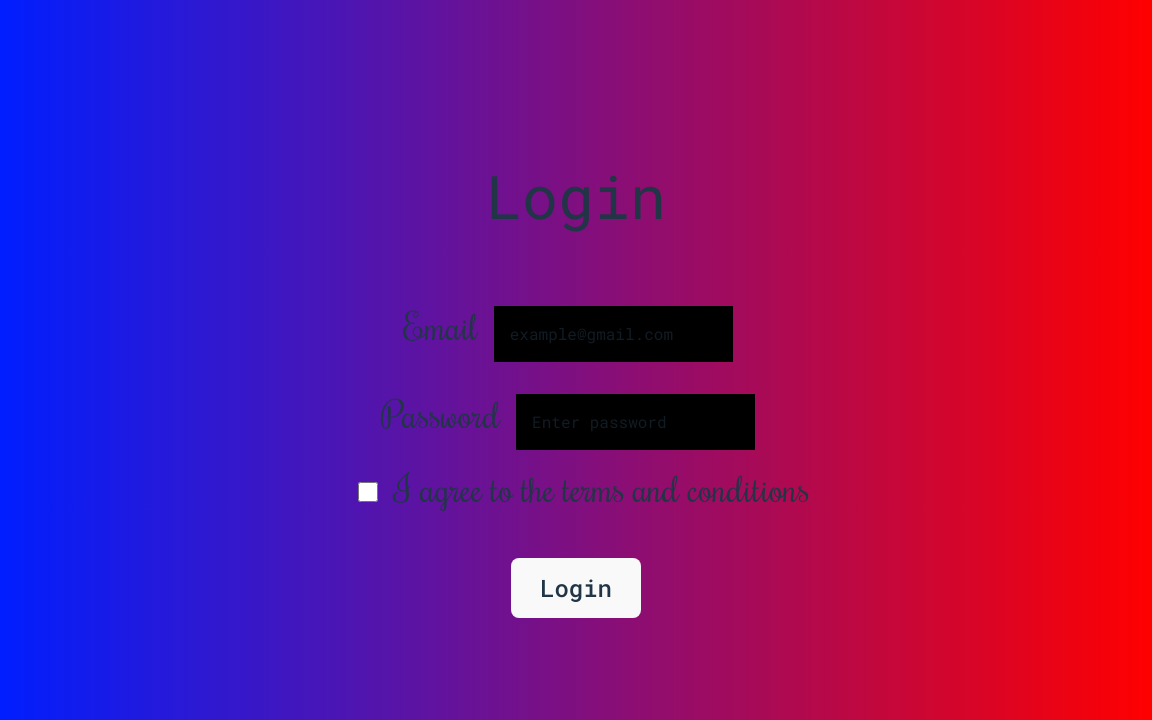
Test: Login Page › Submission › After submission go submit
The image size is (1152, 720).
Type "hello@hello.com" into the field with test id "email". click: (614, 334)
box: x1=494 y1=306 x2=733 y2=362
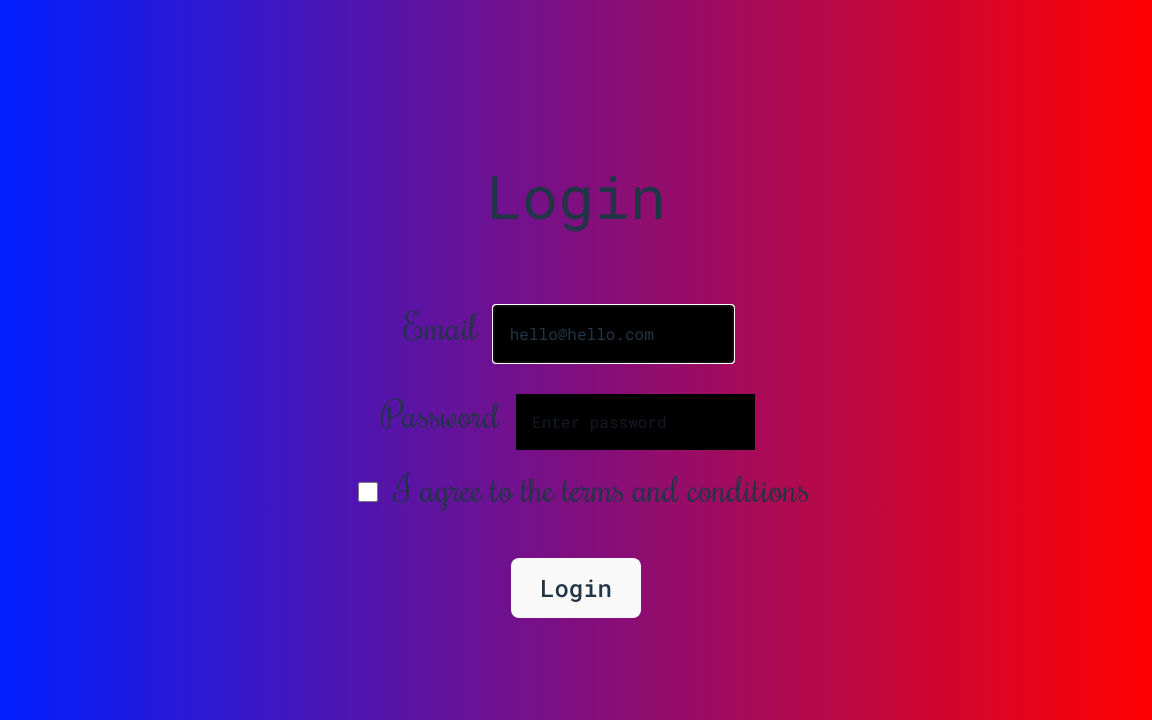
Type "pa$sW0rd" into the password field with test id "password". click: (636, 422)
box: x1=516 y1=394 x2=755 y2=450
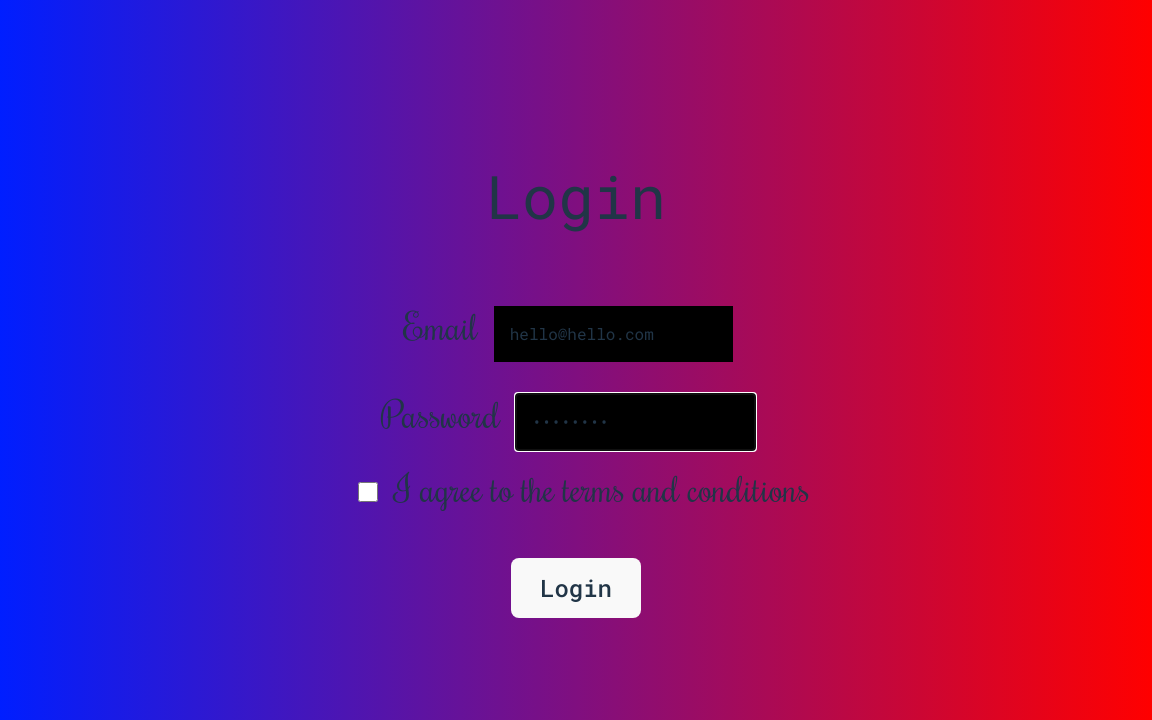
Click the checkbox with test id "terms". click: (368, 492)
box: x1=358 y1=482 x2=378 y2=502
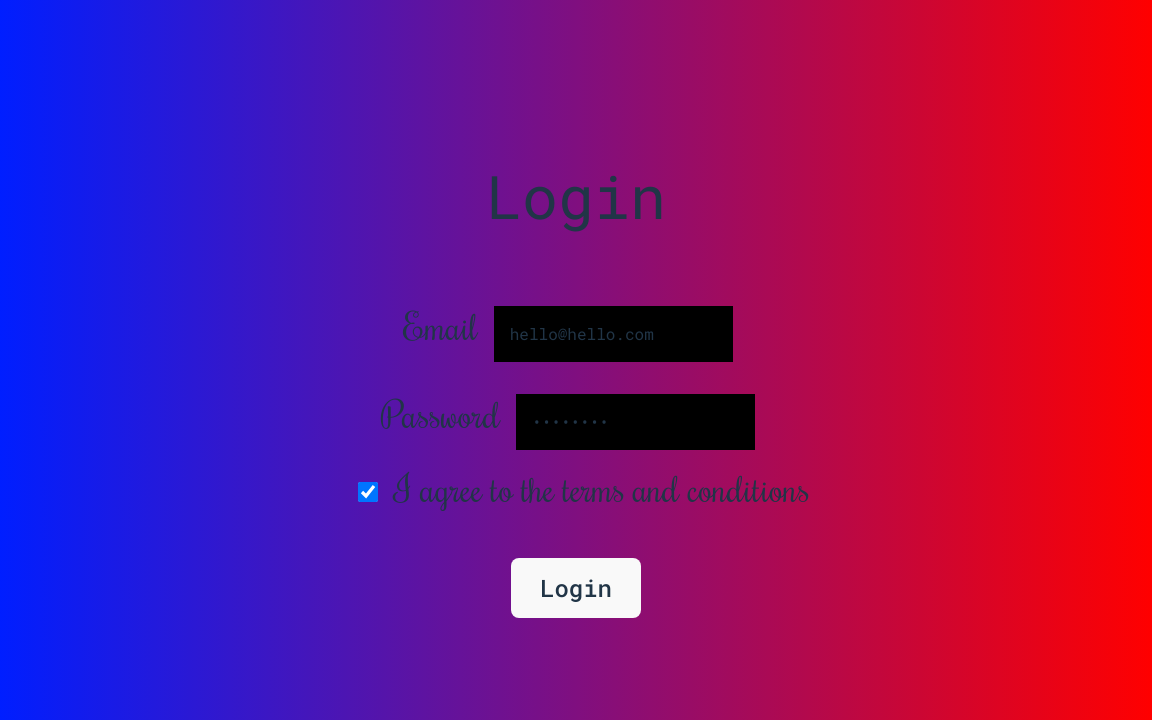
Click the button with test id "submit". click: (576, 589)
box: x1=511 y1=558 x2=641 y2=619
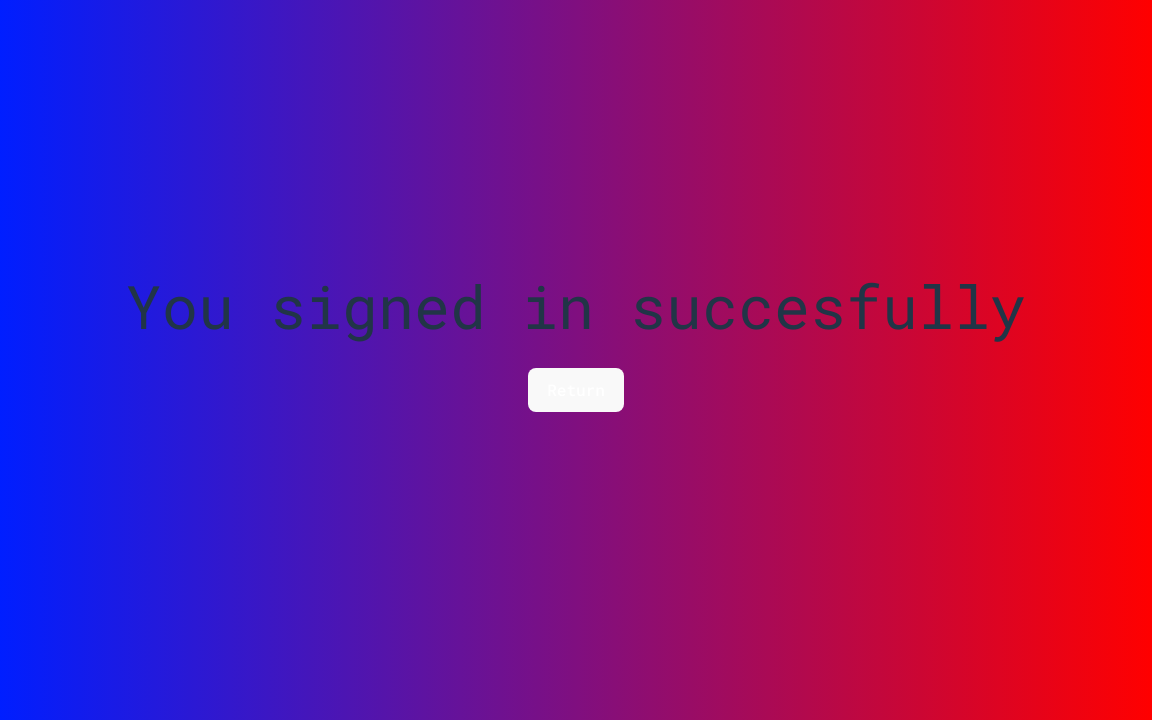
Expected: the heading "You signed in succesfully" is shown, x1=126 y1=276 x2=1026 y2=336
